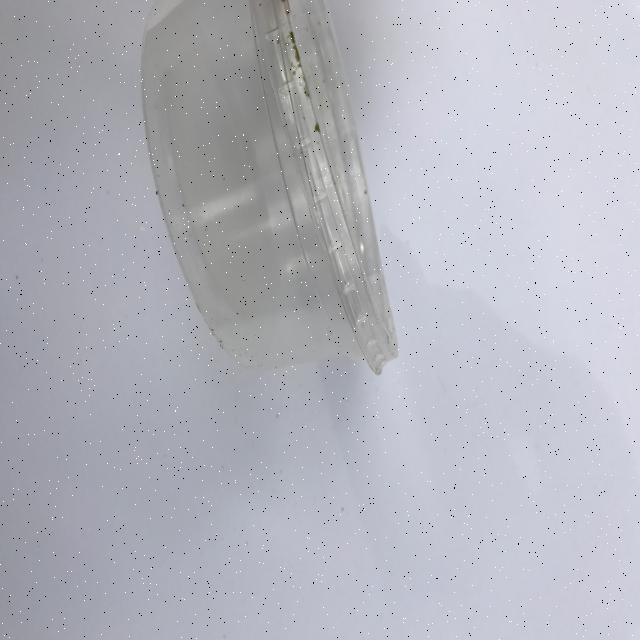plastic: (140, 0, 399, 376)
